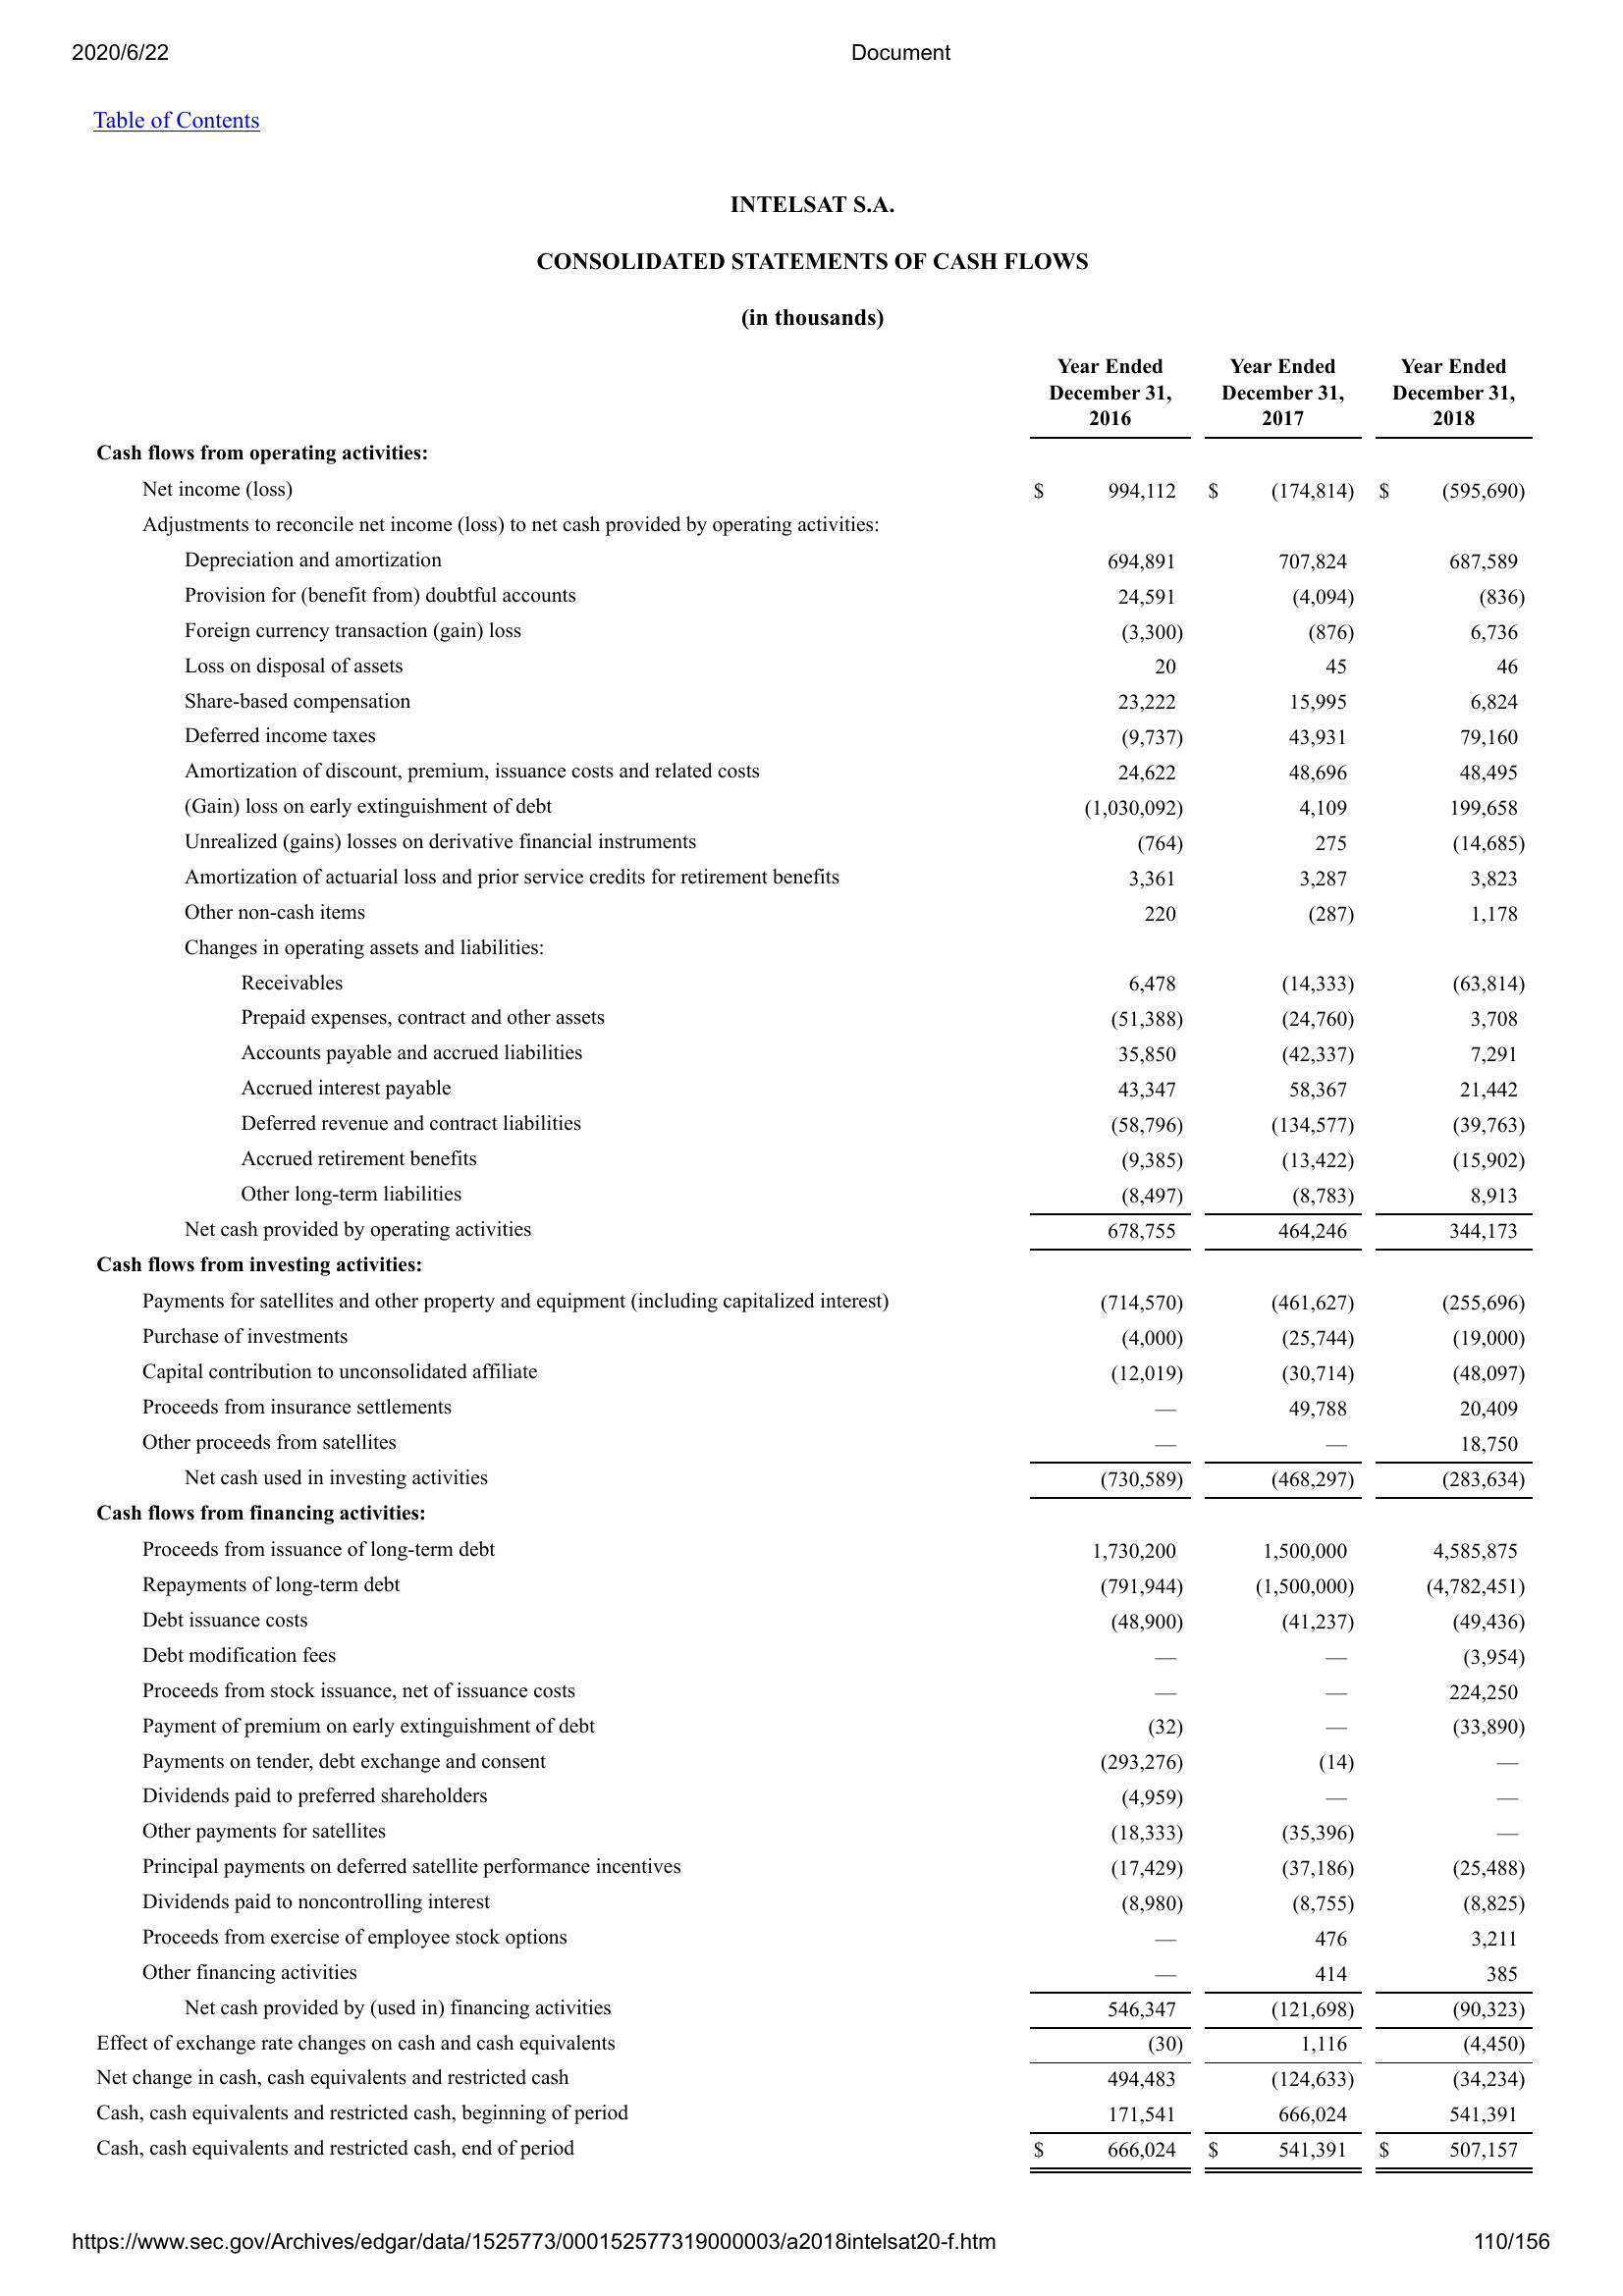table: (95, 348, 1539, 1255), (88, 1278, 1542, 2175)
